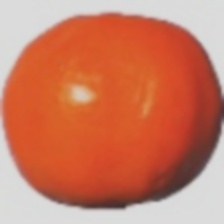tangerine: (33, 60, 187, 207)
